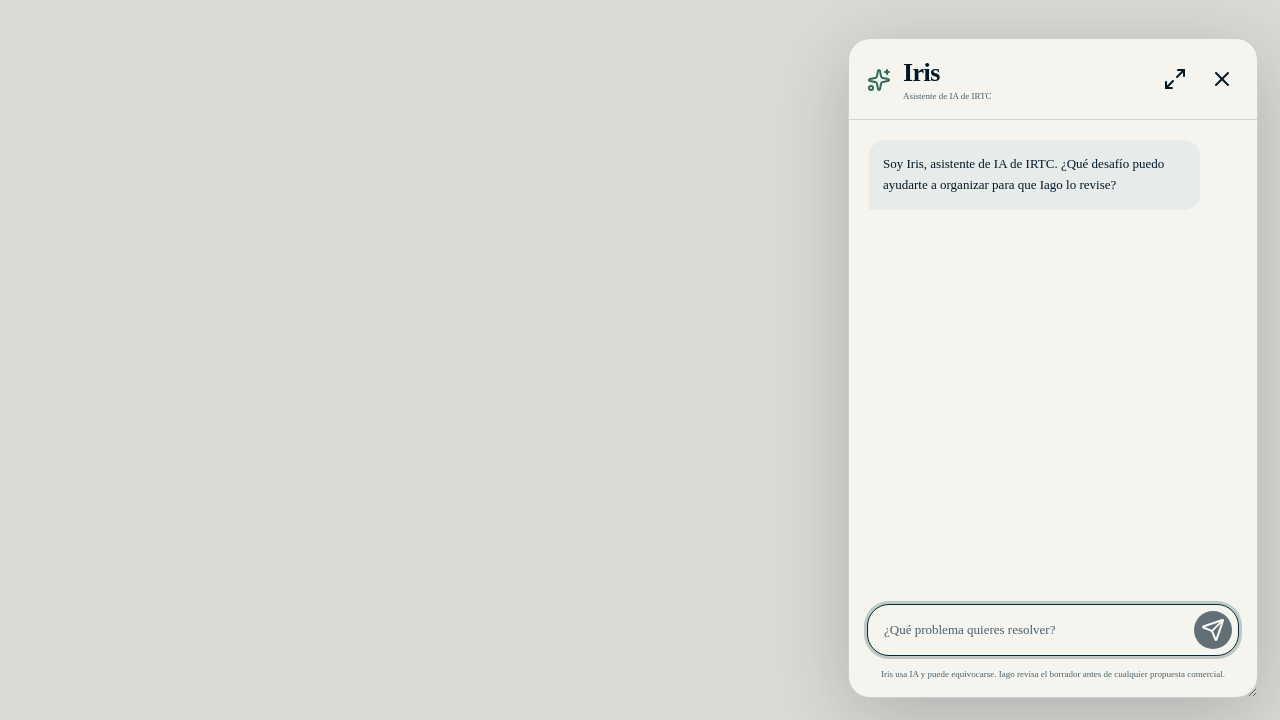
it: Iris dialog › passes the selected language and does not send a client-controlled knowledge base
This screenshot has width=1280, height=720.
Type "Quiero un CRM" into the text box named "Tu mensaje".
click(1033, 630); type("Quiero un CRM")  # box [884, 611, 1182, 648]
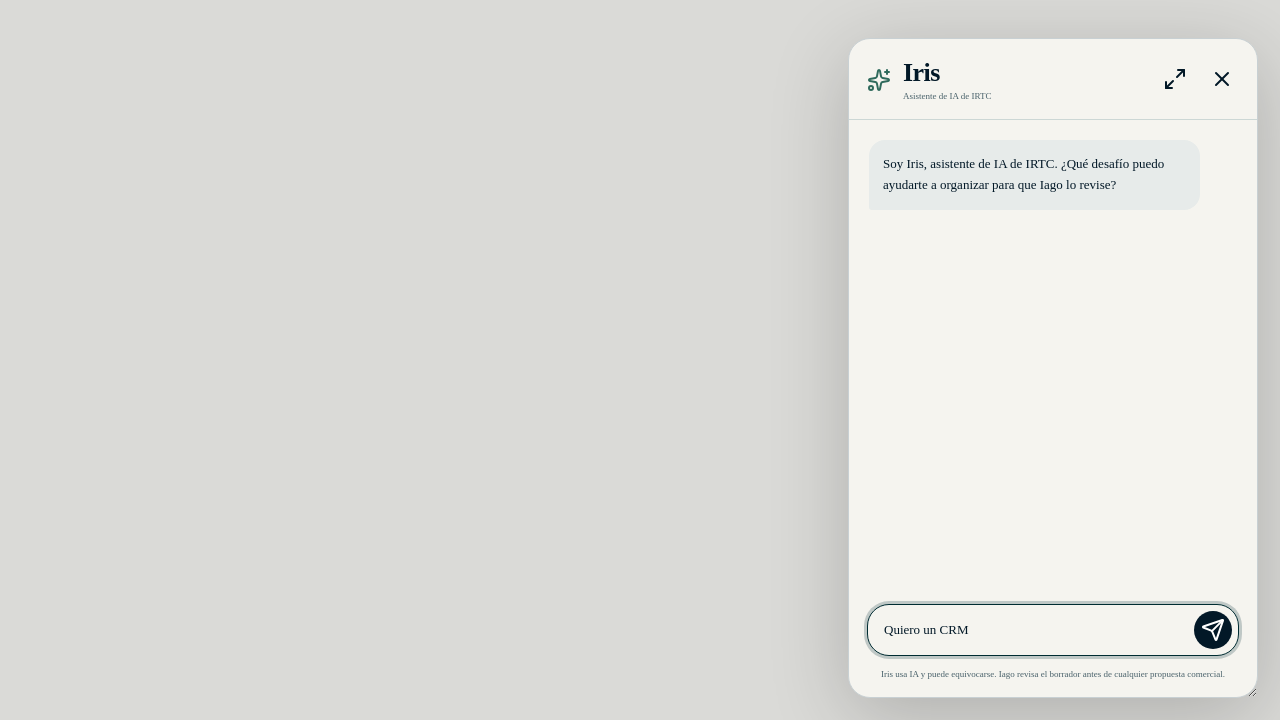
Click the button named "Enviar".
click(1213, 630)  # box [1194, 610, 1232, 648]
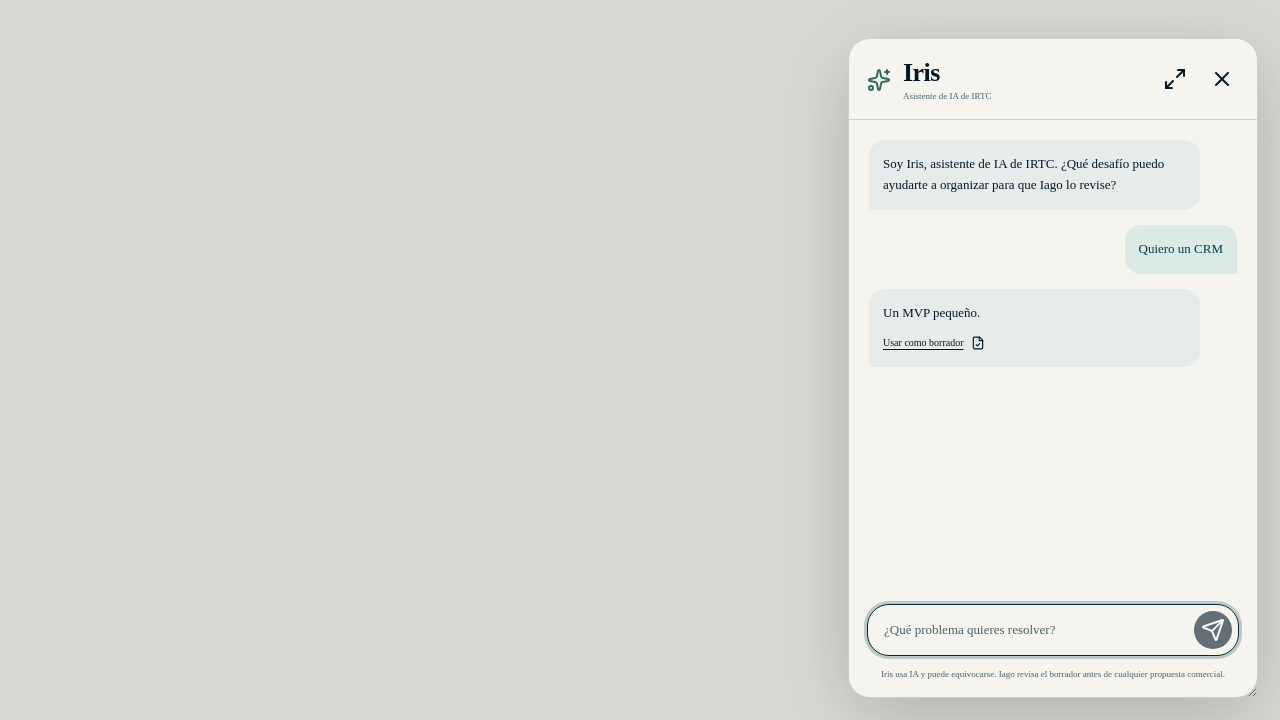
Check: the text "Un MVP pequeño." is shown, box [883, 305, 980, 320]
